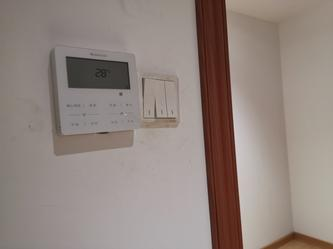switch: (162, 76, 178, 122), (141, 74, 156, 120), (155, 77, 169, 120)
